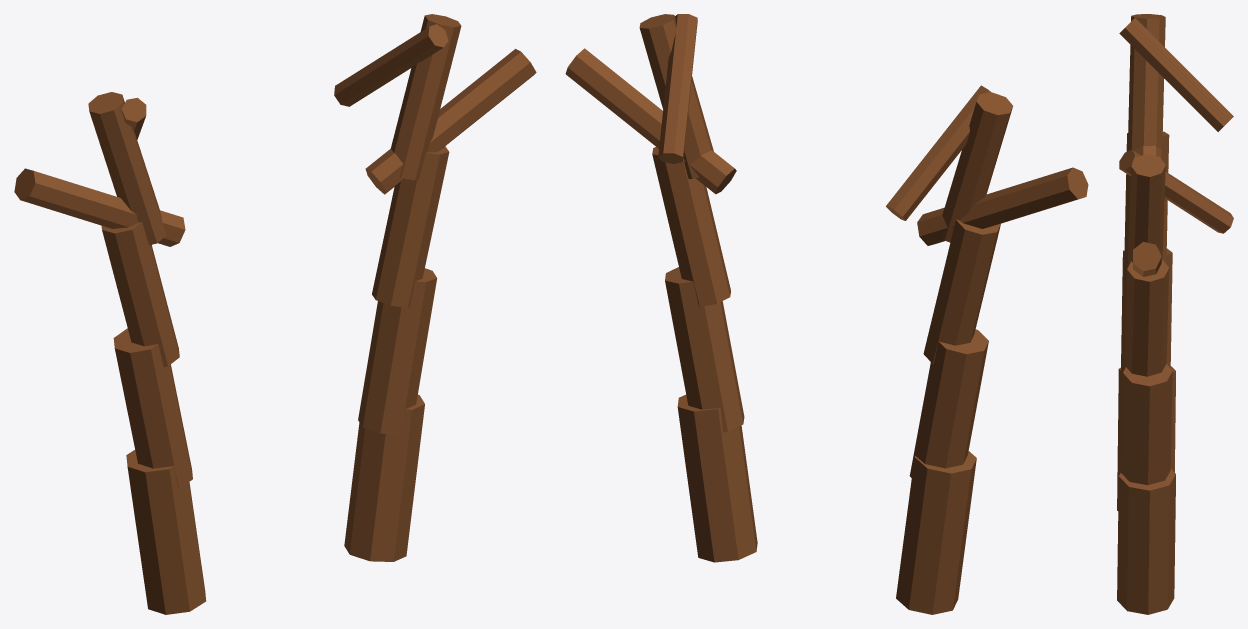
The model's file is SM_TwistedTwinTrees_A.glb.
3 renders of one model, left to right at view 1: azimuth 30°, elevation 25°; view 2: azimuth 150°, elevation 25°; view 3: azimuth 270°, elevation 25°, orthographic. The views are drawn at different scales.
Visible parts, largest first — view 1: SM_TwistedTwinTrees_A; view 2: SM_TwistedTwinTrees_A; view 3: SM_TwistedTwinTrees_A.
Part boxes in pixels (<box>): SM_TwistedTwinTrees_A: <box>14,14,536,614</box>; SM_TwistedTwinTrees_A: <box>565,14,1088,614</box>; SM_TwistedTwinTrees_A: <box>1117,14,1233,614</box>.
Bounding box in the file's own units: 6.36 × 6.17 × 1.38.
